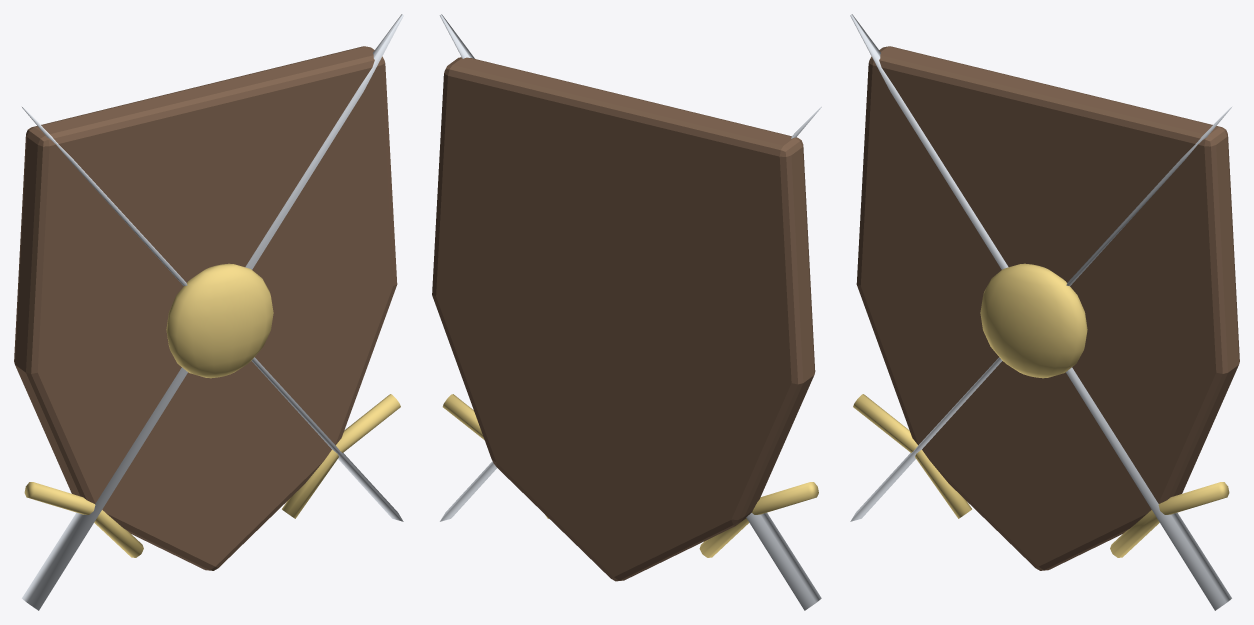
Rendered from wall_trophy.glb.
3 views of the same model, side by side, from view 1: azimuth 30°, elevation 25°; view 2: azimuth 150°, elevation 25°; view 3: azimuth 330°, elevation 25° (orthographic).
Visible parts, largest first — view 1: TrophyPlaque, TrophyBoss, TrophyBlade_-38, TrophyBlade_38, TrophyGuard_38, TrophyGuard_-38; view 2: TrophyPlaque, TrophyBlade_-38, TrophyGuard_-38, TrophyBlade_38, TrophyGuard_38; view 3: TrophyPlaque, TrophyBoss, TrophyBlade_38, TrophyBlade_-38, TrophyGuard_-38, TrophyGuard_38.
Boxes of the visible parts, bbox=[...] form: TrophyPlaque: bbox=[14, 46, 397, 570]; TrophyBoss: bbox=[166, 263, 273, 378]; TrophyBlade_-38: bbox=[22, 14, 403, 610]; TrophyBlade_38: bbox=[22, 107, 403, 521]; TrophyGuard_38: bbox=[282, 394, 400, 518]; TrophyGuard_-38: bbox=[24, 482, 143, 557]; TrophyPlaque: bbox=[432, 57, 815, 581]; TrophyBlade_-38: bbox=[439, 14, 821, 610]; TrophyGuard_-38: bbox=[699, 482, 818, 557]; TrophyBlade_38: bbox=[440, 107, 821, 521]; TrophyGuard_38: bbox=[442, 394, 548, 518]; TrophyPlaque: bbox=[856, 46, 1239, 570]; TrophyBoss: bbox=[980, 263, 1087, 378]; TrophyBlade_38: bbox=[850, 14, 1231, 610]; TrophyBlade_-38: bbox=[850, 107, 1231, 521]; TrophyGuard_-38: bbox=[853, 394, 971, 518]; TrophyGuard_38: bbox=[1110, 482, 1229, 557].
Bounding box in the file's own units: 0.6168 × 0.7906 × 0.1057.
